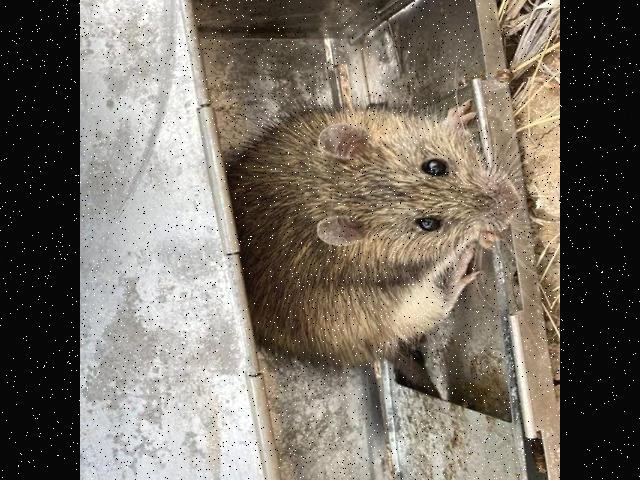Tikus: (228, 99, 522, 371)
